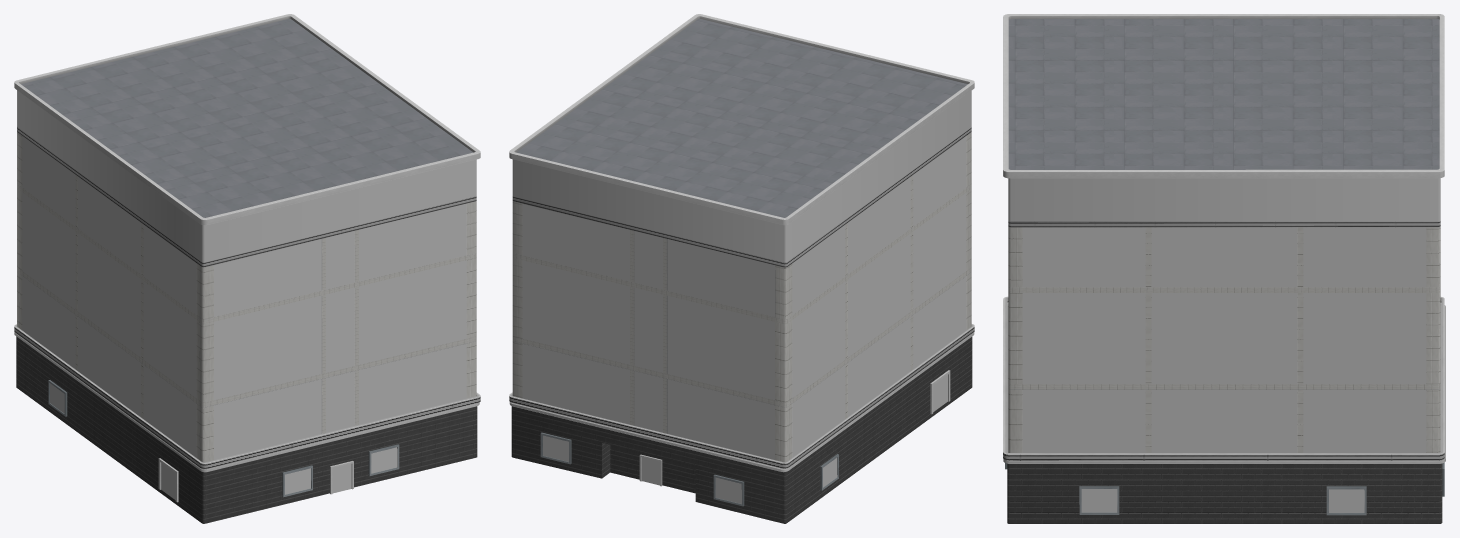
Rendered from HouseGS.fbx.
3 renders of one model, left to right at view 1: azimuth 30°, elevation 25°; view 2: azimuth 150°, elevation 25°; view 3: azimuth 270°, elevation 25°, orthographic. The views are drawn at different scales.
Visible parts, largest first — view 1: HouseGS; view 2: HouseGS; view 3: HouseGS.
Part boxes in pixels (box(x1,y1,x2,y2)): HouseGS: box(14, 14, 480, 523); HouseGS: box(509, 14, 974, 523); HouseGS: box(1003, 14, 1445, 523).
Size of what is drawn, in the model's own units: 33.28 by 34.73 by 39.39.
